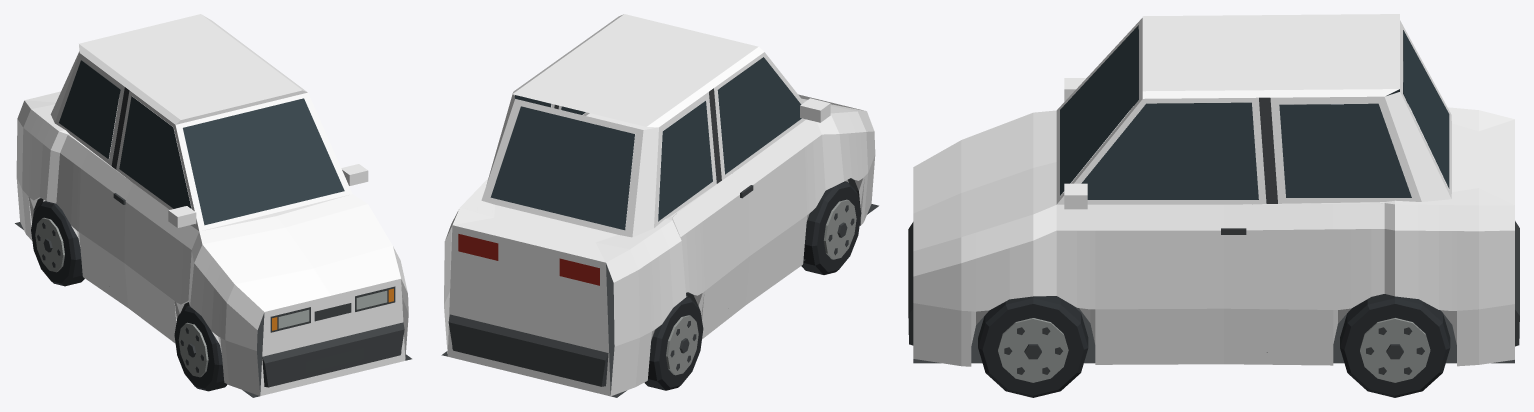
File: kanaya_tobi.glb
3 renders of one model, left to right at view 1: azimuth 30°, elevation 25°; view 2: azimuth 150°, elevation 25°; view 3: azimuth 270°, elevation 25°, orthographic. The views are drawn at different scales.
Visible parts, largest first — view 1: kanaya_tobi; view 2: kanaya_tobi; view 3: kanaya_tobi.
Part boxes in pixels (x1,y1,x2,y2): kanaya_tobi: [15, 14, 411, 397]; kanaya_tobi: [441, 14, 878, 397]; kanaya_tobi: [908, 14, 1519, 397].
Bounding box in the file's own units: 1.43 × 1.67 × 3.16.
Materials: 8 (1 with a texture image).
